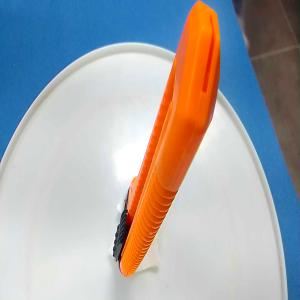estilete: (112, 0, 222, 278)
